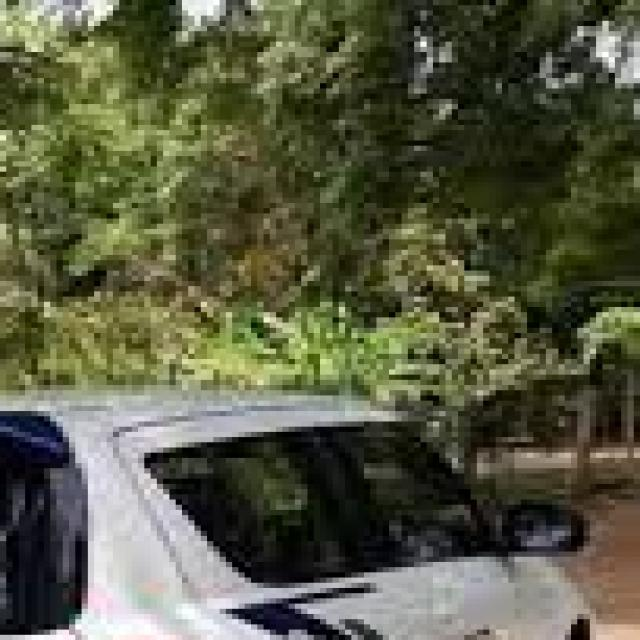car: (0, 390, 609, 640)
